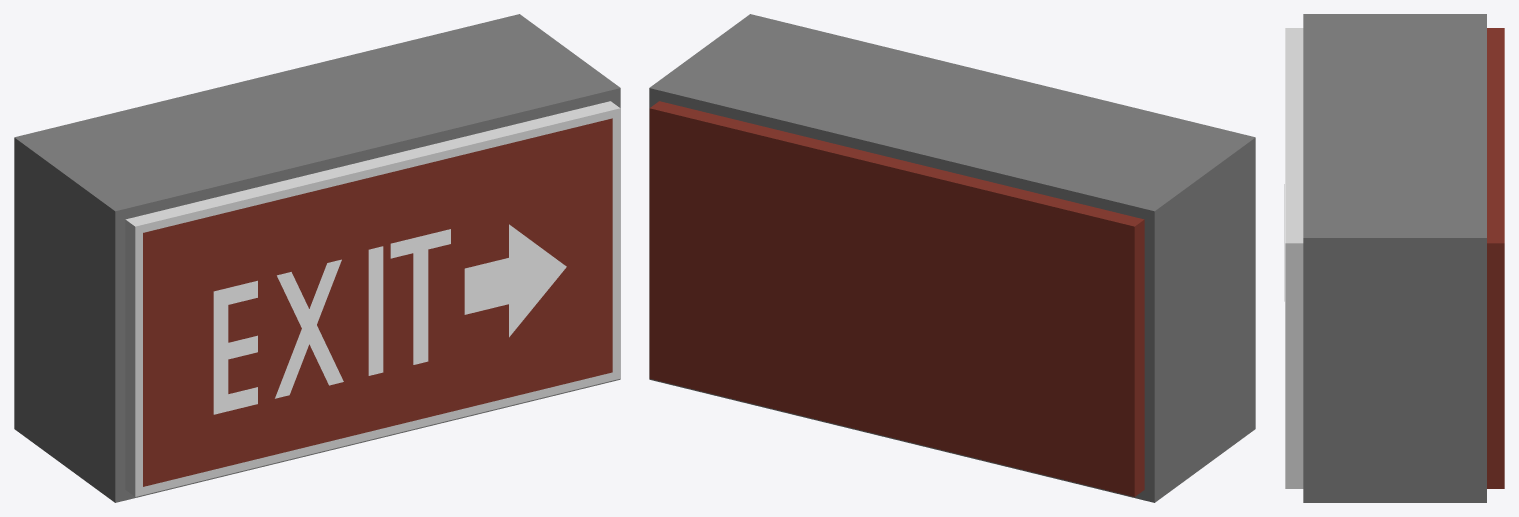
Rendered from exit-sign-box.gltf.
3 renders of one model, left to right at view 1: azimuth 30°, elevation 25°; view 2: azimuth 150°, elevation 25°; view 3: azimuth 270°, elevation 25°, orthographic. The views are drawn at different scales.
Visible parts, largest first — view 1: Cube.006; view 2: Cube.006; view 3: Cube.006.
Boxes of the visible parts, left/top/right/bottom form: Cube.006: left=14, top=14, right=620, bottom=502; Cube.006: left=649, top=14, right=1255, bottom=502; Cube.006: left=1284, top=14, right=1504, bottom=502.
Bounding box in the file's own units: 0.34 × 0.1875 × 0.1413.
